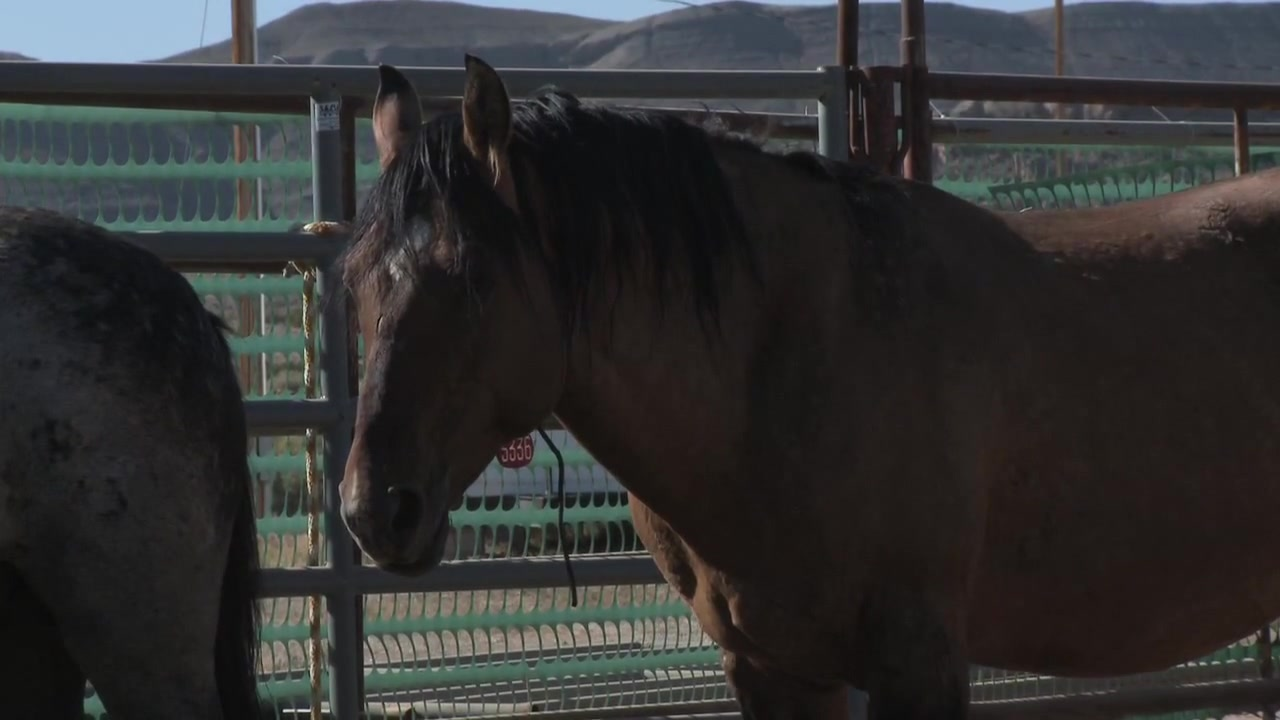horse: (331, 54, 1280, 719), (1, 202, 267, 720)
